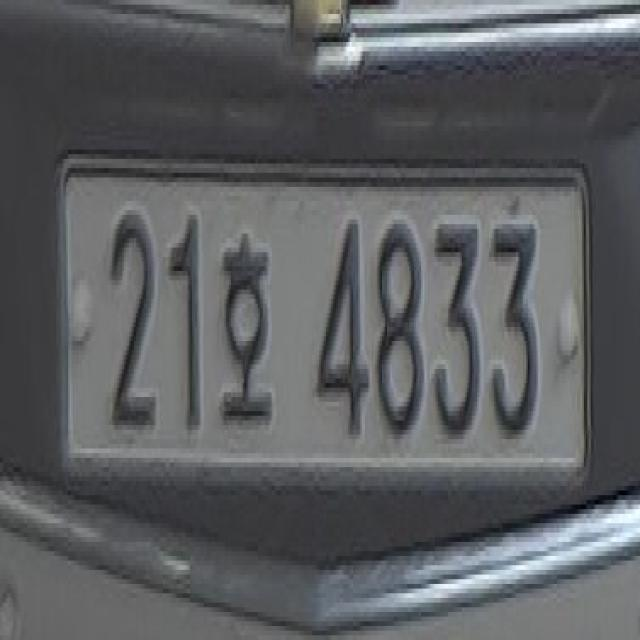plat: (58, 153, 592, 482)
